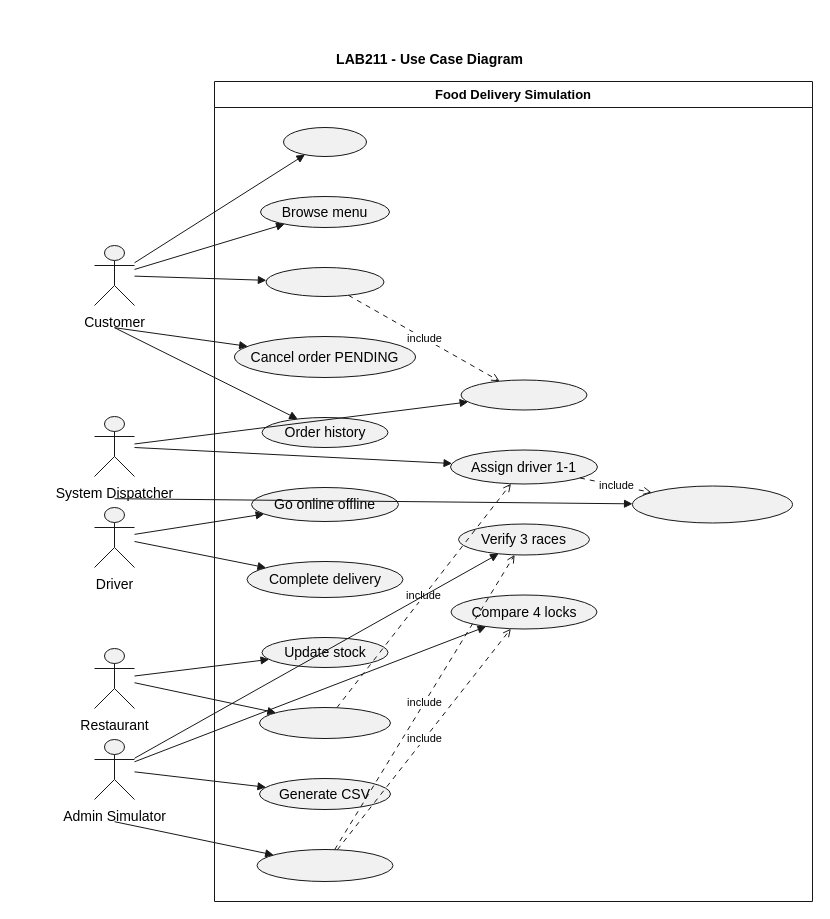
The diagram is 830 pixels wide and 919 high, and some of its shapes have lost their labels. Each missing label, with the centre of its shape:
"Confirm order" goes at point 324,722.
"Deduct stock" goes at point 523,394.
"Find nearest driver" goes at point 712,504.
"Place order" goes at point 324,281.
"Register" goes at point 324,141.
"Run simulation" goes at point 324,865.
